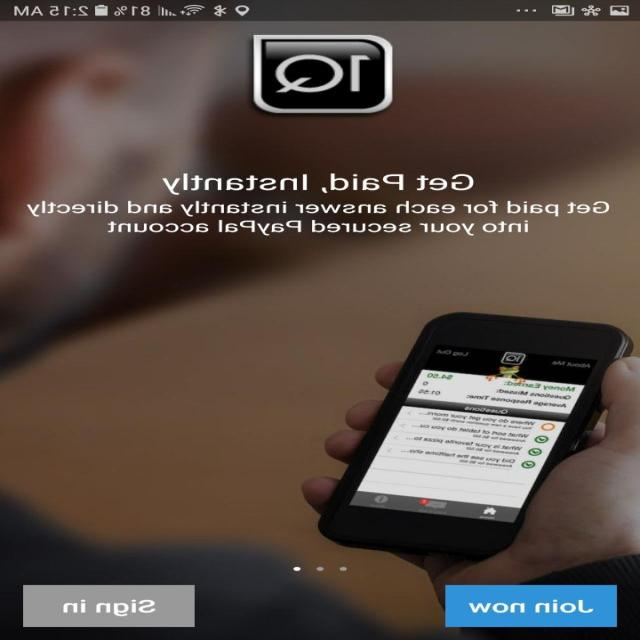BackgroundImage: (1, 21, 640, 639)
Image: (253, 35, 395, 113)
Text: (27, 200, 610, 236), (162, 173, 474, 195)
TextButton: (446, 584, 616, 627), (23, 584, 196, 626)
